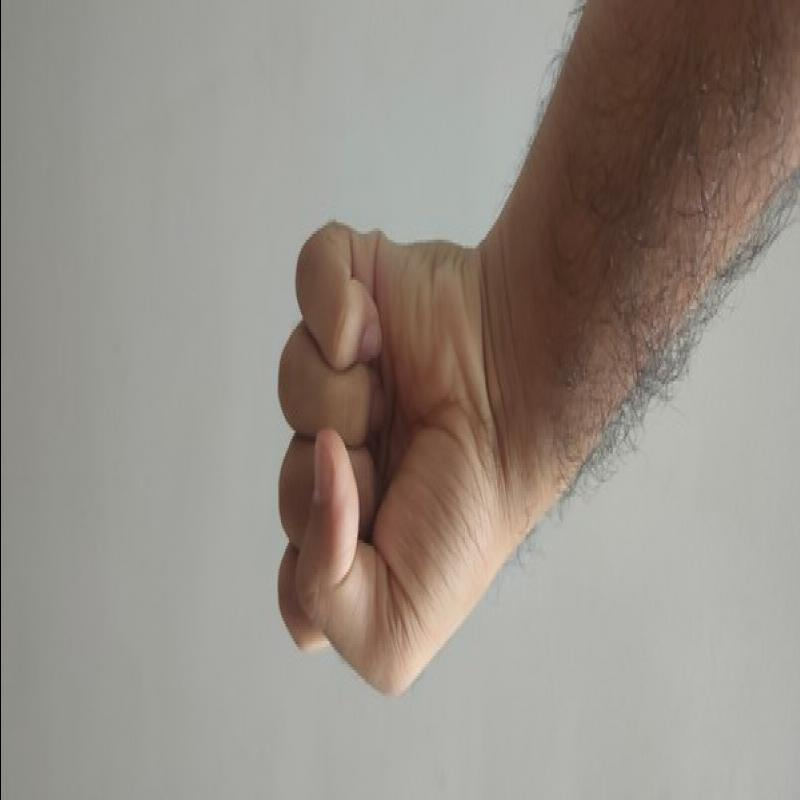Mushti: (195, 163, 495, 706)
